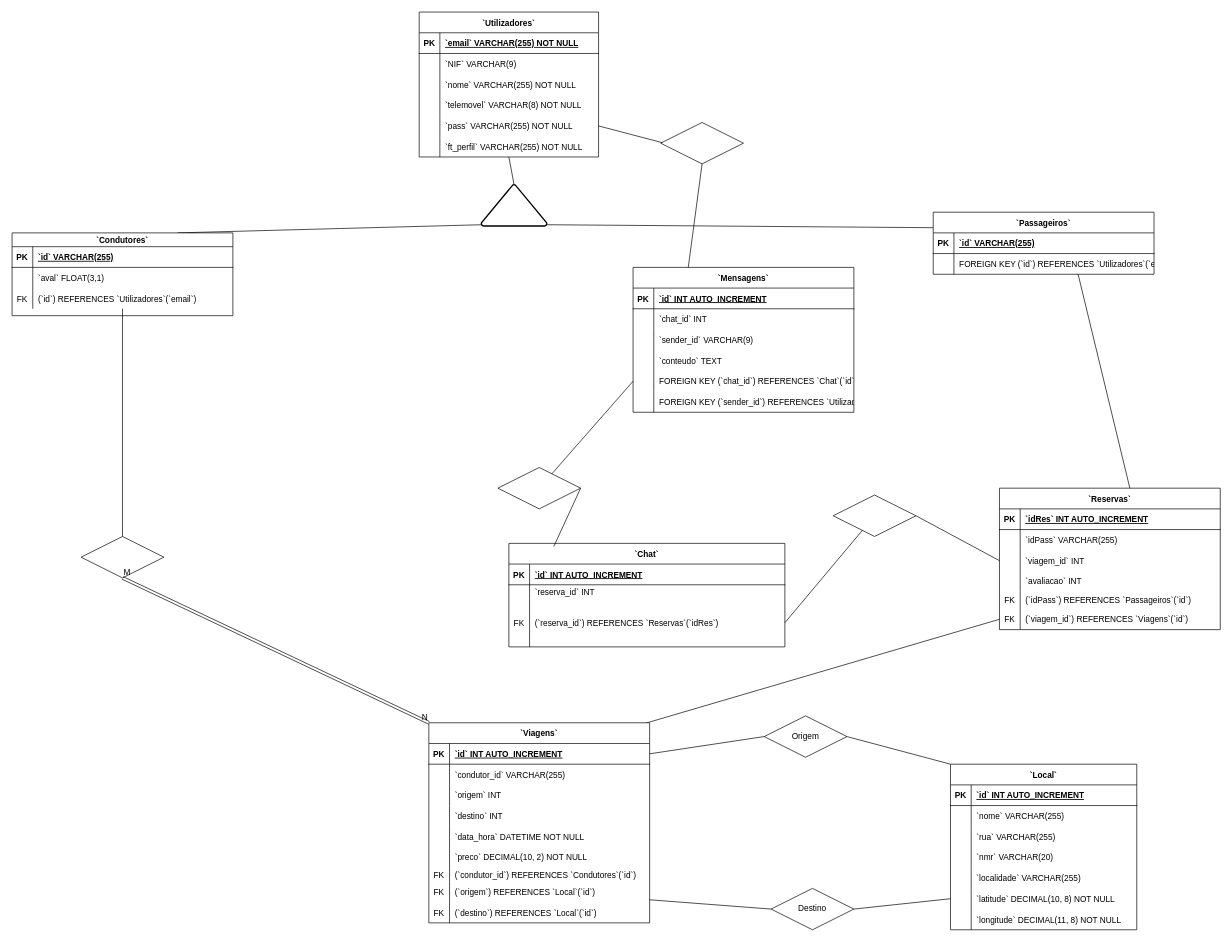
Some shapes in this 1232 by 942 pixel diagram are drawn without their labels. Each missing label, with the centre of its shape:
"Conduz" goes at point (122, 557).
"Contem" goes at point (539, 488).
"Envia" goes at point (701, 143).
"IS_A" goes at point (513, 205).
"Tem" goes at point (874, 515).
